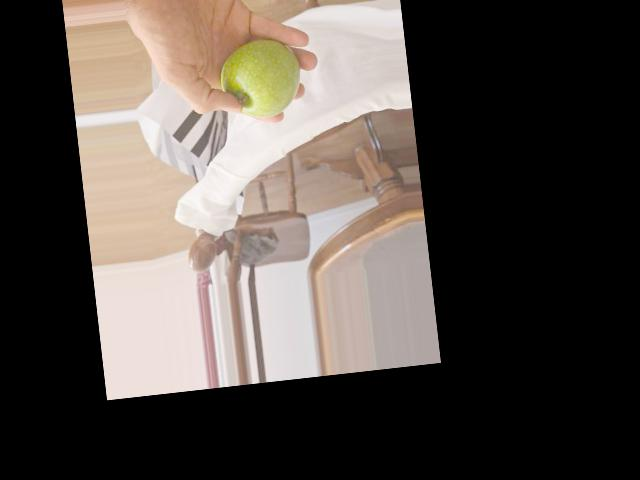apple: (222, 32, 303, 123)
